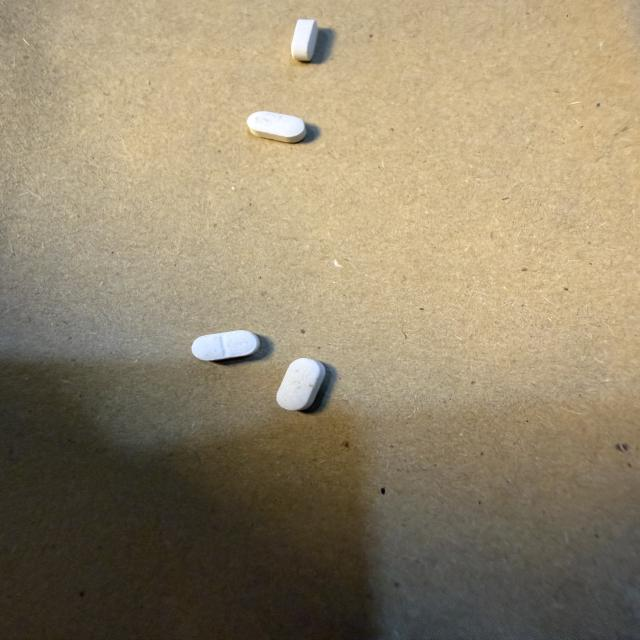pill: (277, 359, 325, 410), (192, 331, 259, 360), (247, 111, 306, 143), (292, 20, 318, 61)
